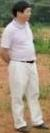boots: (15, 126, 29, 133), (0, 123, 11, 130)
